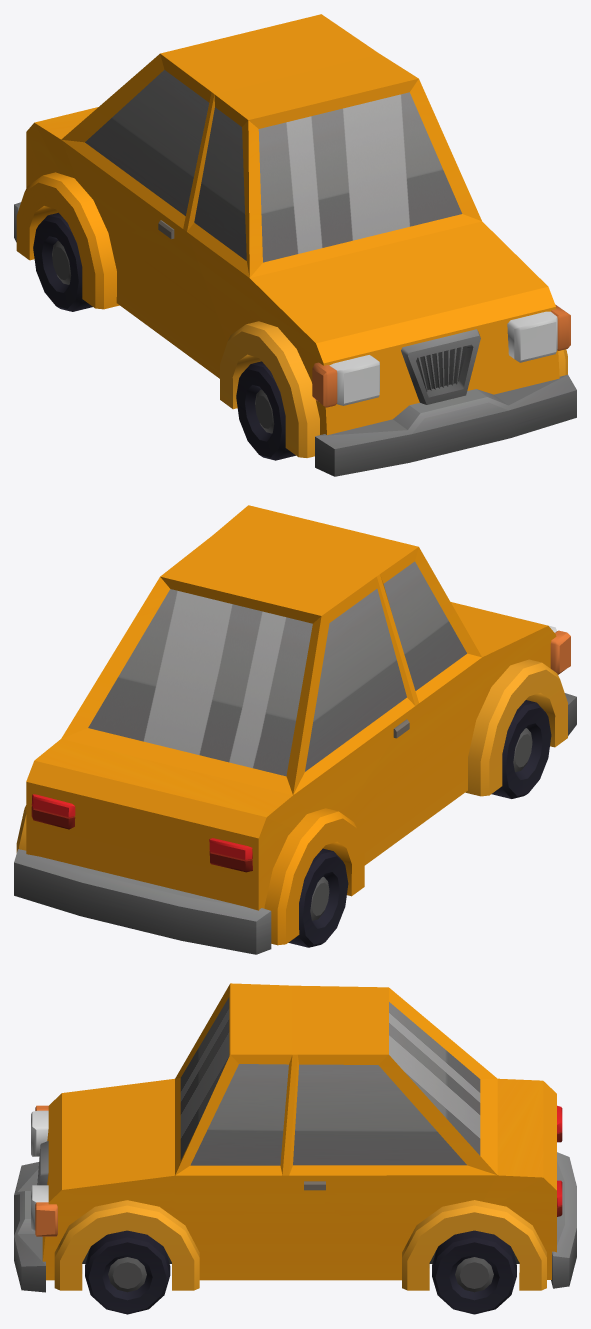
The model's file is Car_4_14.glb.
The picture shows the model from 3 angles, top to bottom: view 1: azimuth 30°, elevation 25°; view 2: azimuth 150°, elevation 25°; view 3: azimuth 270°, elevation 25°; orthographic projection. The views are drawn at different scales.
Parts seen in each view (by area): view 1: Car_4_14, BWhel_FR, BWhel_BR; view 2: Car_4_14, BWhel_BR, BWhel_FR; view 3: Car_4_14, BWhel_FL, BWhel_BL.
Boxes of the visible parts, x1,y1,x2,y2 form: Car_4_14: (14, 14, 576, 476); BWhel_FR: (236, 361, 295, 460); BWhel_BR: (33, 212, 92, 311); Car_4_14: (14, 505, 576, 954); BWhel_BR: (288, 848, 348, 947); BWhel_FR: (491, 700, 551, 798); Car_4_14: (14, 983, 576, 1292); BWhel_FL: (85, 1230, 170, 1314); BWhel_BL: (432, 1230, 516, 1314).
Size of the model in its own units: 1.09 by 1.09 by 2.3.
6 materials, 6 textured.
